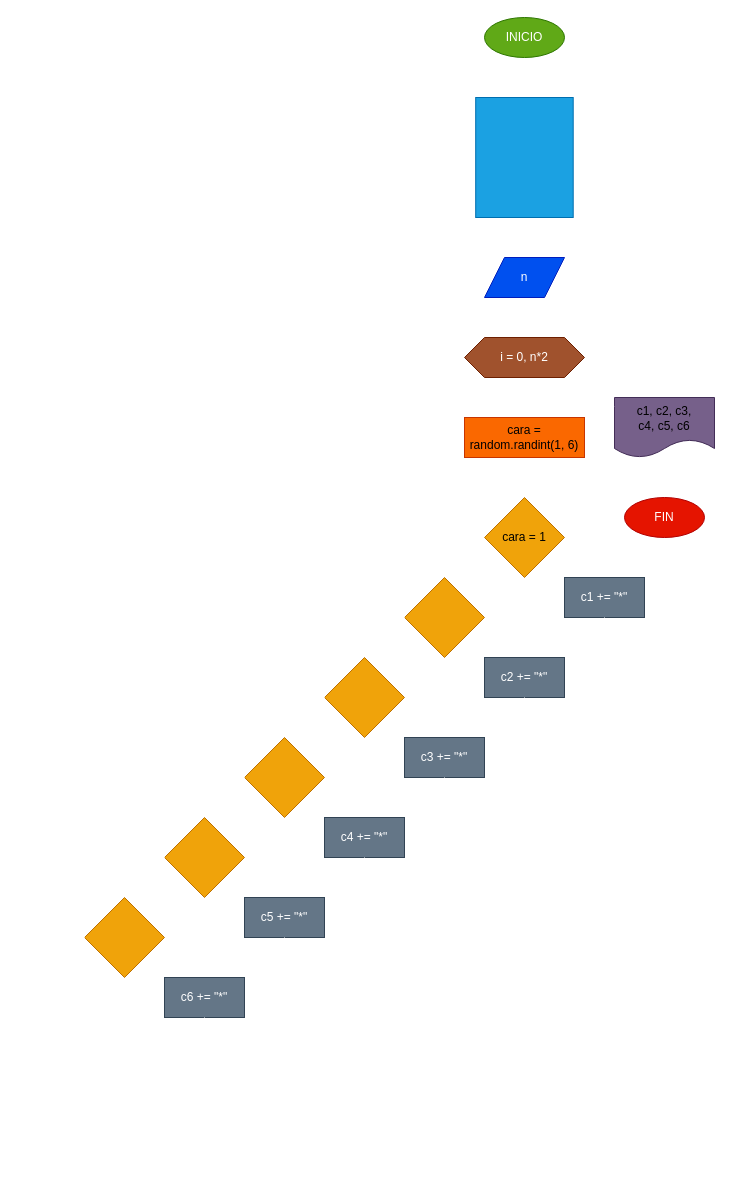
This 732x1203 diagram has some shape labels left out. Here are the shapes that lost their labels. From the top down, the centre of each, then its label:
(524,157): c1 = "" c2 = "" c3 = "" c4 = "" c5 = "" c6 = ""
(444,617): cara = 2
(364,697): cara = 3
(284,777): cara = 4
(204,857): cara = 5
(124,937): cara = 6
